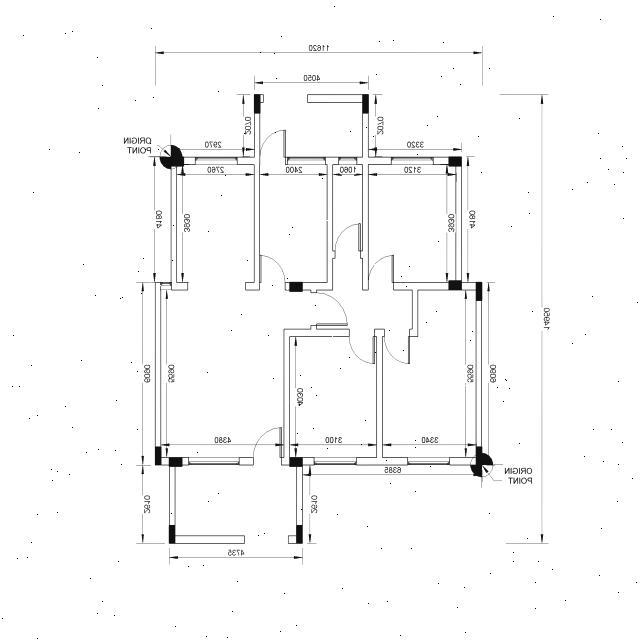Column: (170, 156, 184, 166), (168, 457, 182, 467), (289, 457, 303, 467), (448, 156, 462, 166), (448, 280, 462, 290), (289, 282, 303, 292), (296, 525, 303, 544), (254, 94, 260, 114), (155, 446, 161, 466), (362, 94, 368, 114), (169, 525, 175, 544), (476, 282, 482, 301), (476, 447, 482, 465)
Door: (311, 290, 348, 330), (332, 223, 362, 259), (254, 428, 282, 466), (382, 328, 410, 364), (349, 328, 377, 364), (260, 130, 286, 166), (368, 254, 394, 290), (260, 254, 286, 290)
Window: (188, 457, 240, 465), (391, 157, 433, 165), (195, 157, 237, 165), (314, 457, 356, 465), (408, 457, 450, 465), (288, 157, 326, 165), (339, 157, 357, 165), (160, 282, 172, 290)
